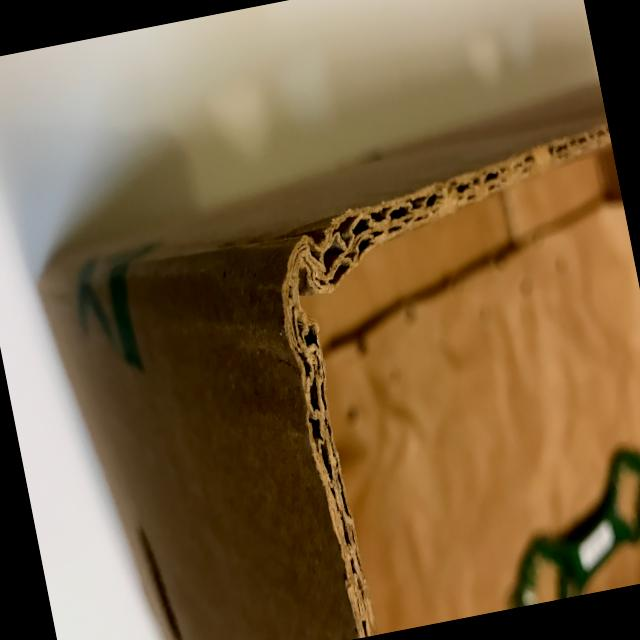Cardboard: (12, 72, 640, 640)
